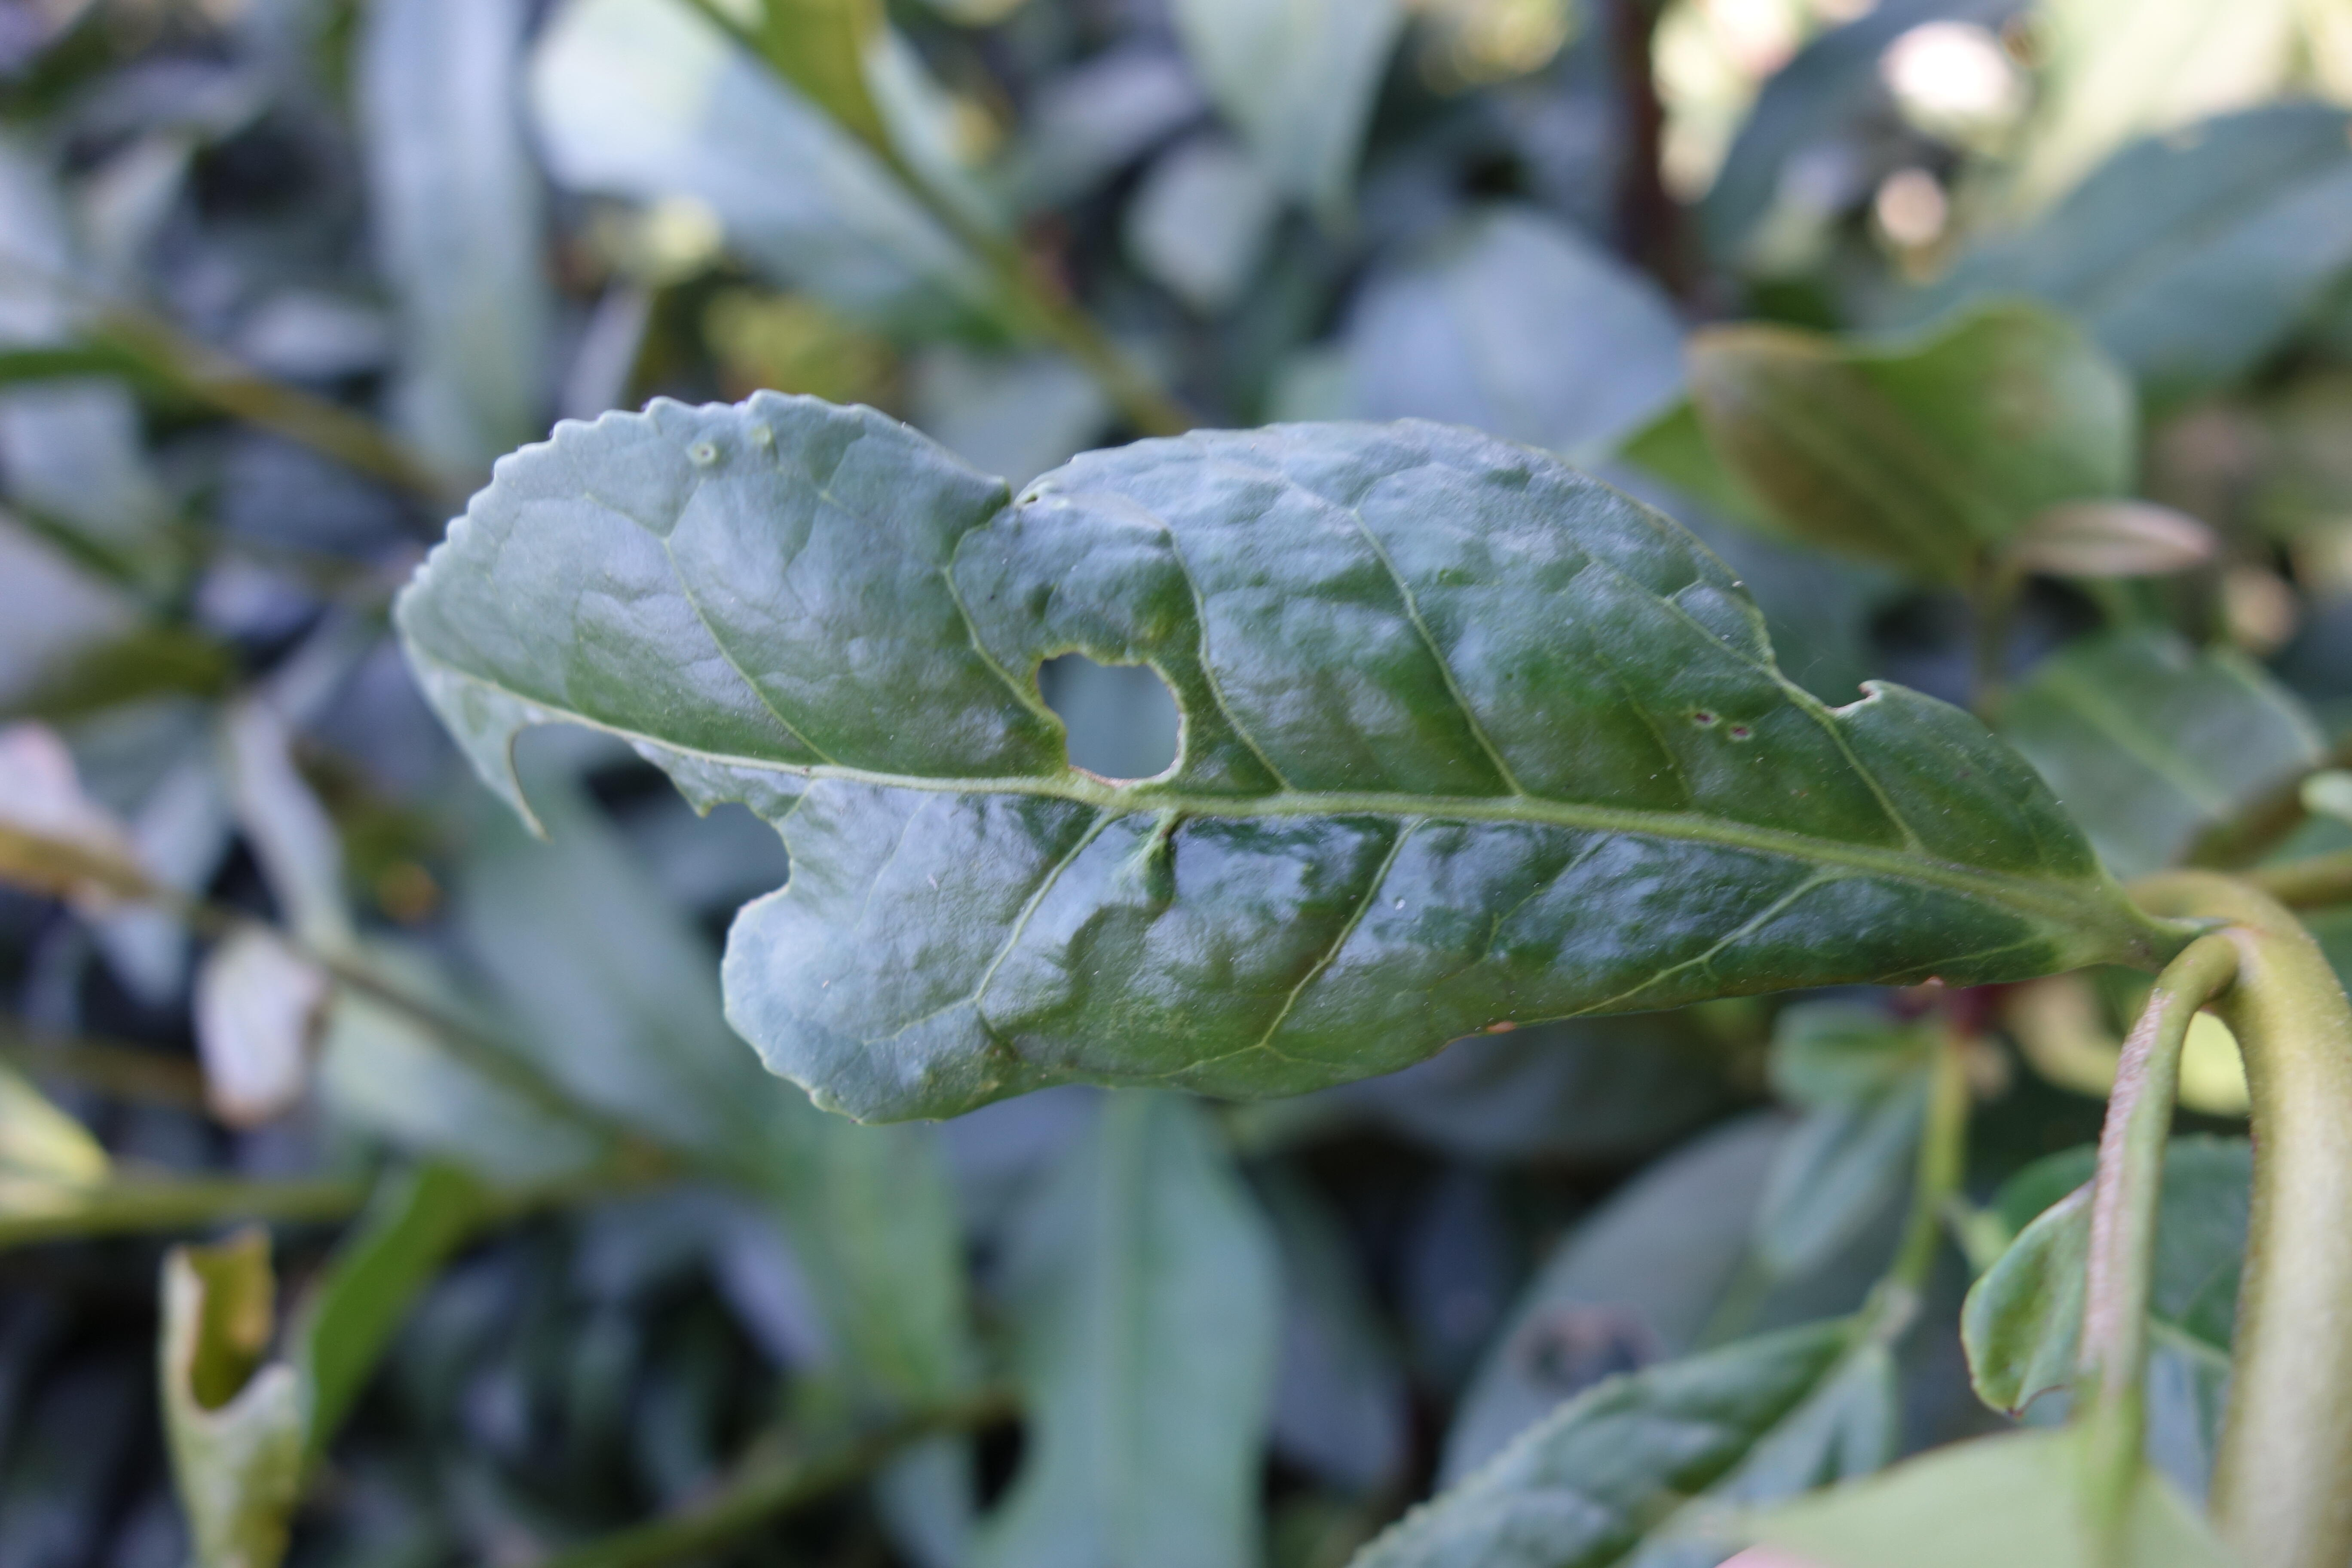chihuo_high: (387, 385, 2121, 1127)
